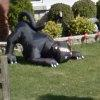Statue: (8, 8, 74, 72)
